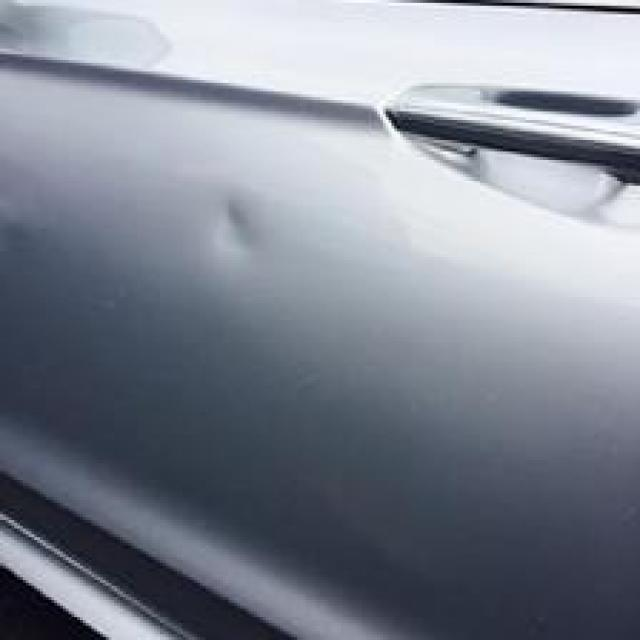damaged: (0, 0, 174, 83), (214, 191, 266, 260)
